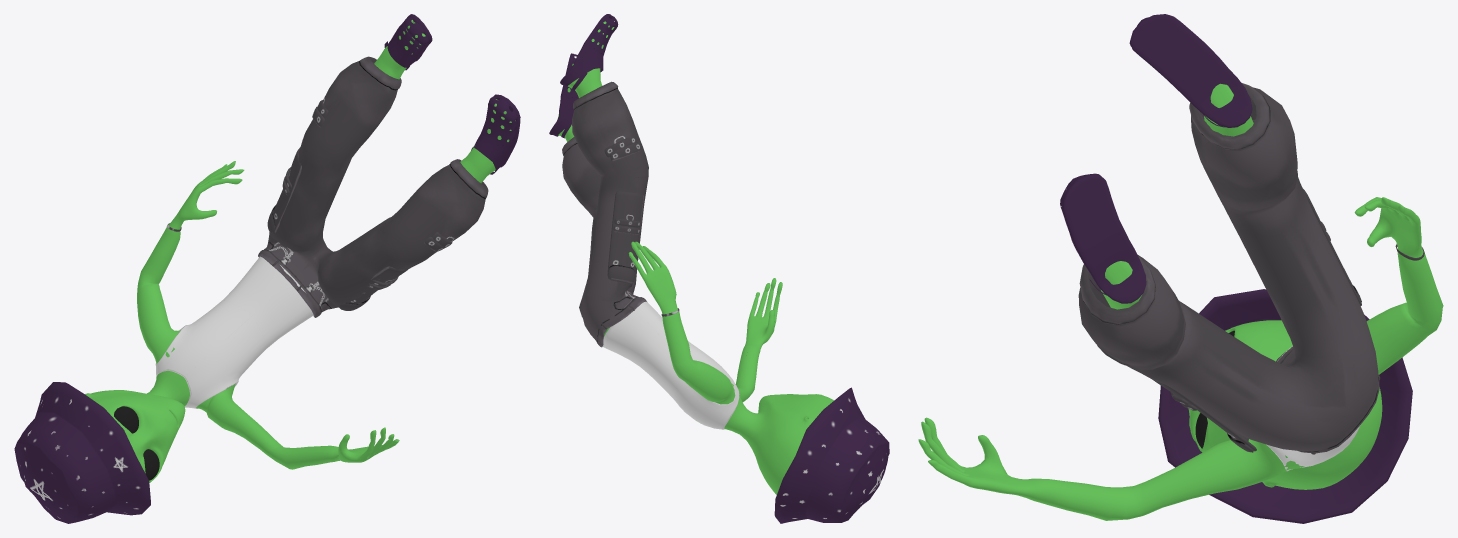
File: Alien.glb
3 renders of one model, left to right at view 1: azimuth 30°, elevation 25°; view 2: azimuth 150°, elevation 25°; view 3: azimuth 270°, elevation 25°, orthographic. The views are drawn at different scales.
Visible parts, largest first — view 1: Pants, Alien, Hat, Shirt, Crocs.003, Crocs, PantsAccessories; view 2: Alien, Pants, Hat, Shirt, PantsAccessories, Crocs, Crocs.003, PantsAccessories.002; view 3: Pants, Alien, Hat, Crocs, Crocs.003, Shirt, PantsAccessories.009.
Part boxes in pixels (bbox=[...]): Pants: bbox=[259, 56, 488, 316]; Alien: bbox=[85, 20, 515, 482]; Hat: bbox=[14, 382, 150, 523]; Shirt: bbox=[155, 256, 313, 408]; Crocs.003: bbox=[471, 94, 520, 174]; Crocs: bbox=[384, 14, 432, 70]; PantsAccessories: bbox=[272, 147, 301, 234]; Alien: bbox=[557, 21, 833, 494]; Pants: bbox=[562, 81, 648, 347]; Hat: bbox=[774, 387, 889, 523]; Shirt: bbox=[602, 301, 739, 429]; PantsAccessories: bbox=[607, 191, 643, 283]; Crocs: bbox=[560, 14, 618, 91]; Crocs.003: bbox=[549, 53, 578, 138]; PantsAccessories.002: bbox=[608, 265, 634, 283]; Pants: bbox=[1078, 83, 1379, 453]; Alien: bbox=[918, 83, 1443, 520]; Hat: bbox=[1158, 289, 1412, 523]; Crocs: bbox=[1129, 14, 1252, 127]; Crocs.003: bbox=[1060, 173, 1146, 303]; Shirt: bbox=[1266, 346, 1360, 471]; PantsAccessories.009: bbox=[1152, 379, 1256, 451].
Size of the model in its own units: 7.5 by 7.92 by 5.43.
3 materials, 3 textured.
